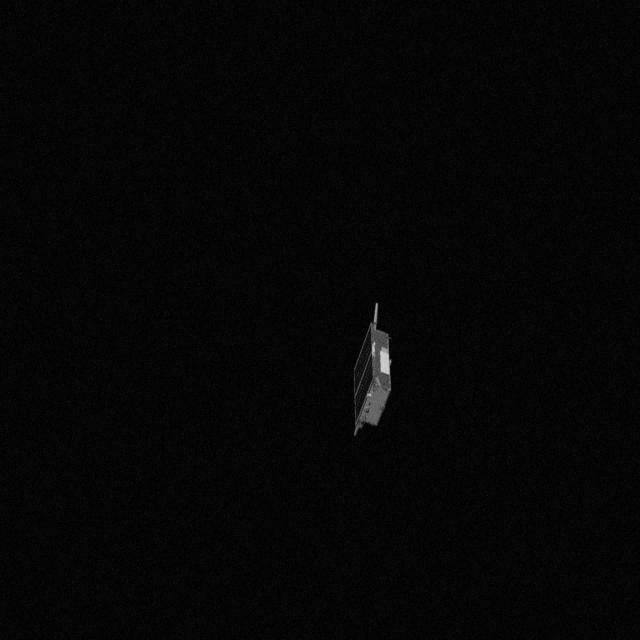satellite: (348, 298, 402, 446)
